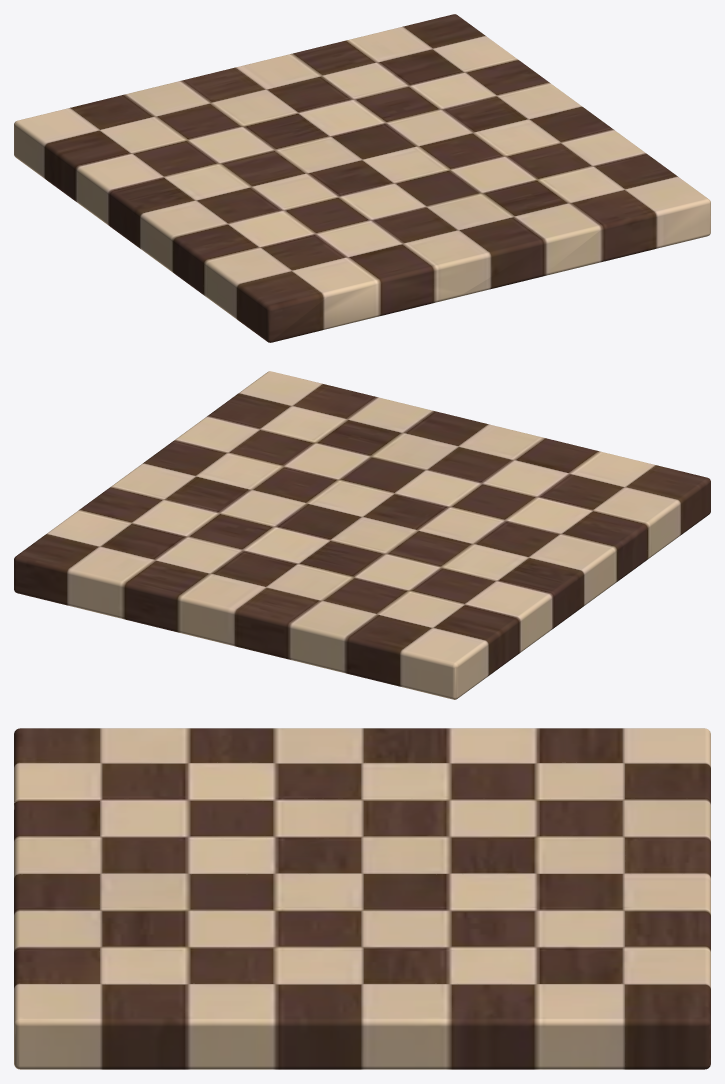
The model's file is maple_chessboard.glb.
3 renders of one model, top to bottom at view 1: azimuth 30°, elevation 25°; view 2: azimuth 150°, elevation 25°; view 3: azimuth 270°, elevation 25°, orthographic. The views are drawn at different scales.
Parts seen in each view (by area): view 1: Chessboard_Walnut_Maple; view 2: Chessboard_Walnut_Maple; view 3: Chessboard_Walnut_Maple.
Boxes of the visible parts, <box> form: Chessboard_Walnut_Maple: <box>14,14,710,342</box>; Chessboard_Walnut_Maple: <box>14,371,710,699</box>; Chessboard_Walnut_Maple: <box>14,728,710,1069</box>.
Size of the model in its own units: 0.4 by 0.032 by 0.4.
1 material, 1 textured.
